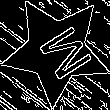M_SW: (23, 18, 89, 83)
